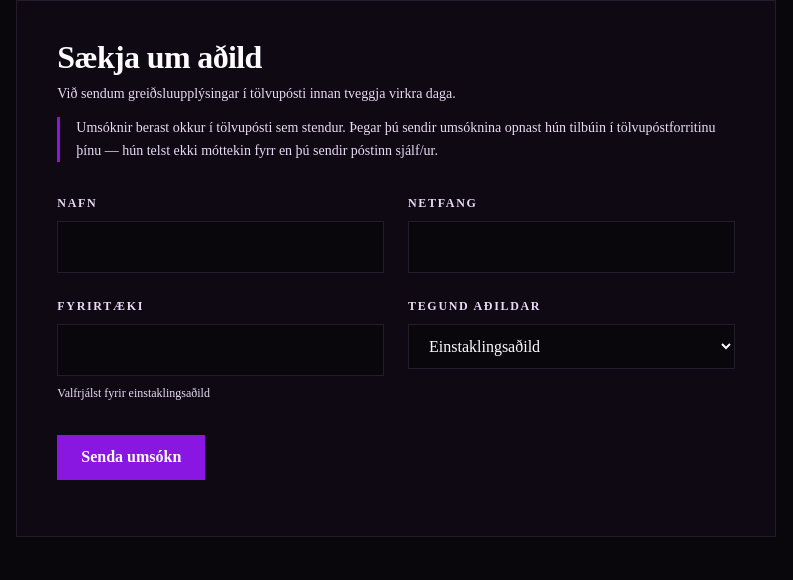
Test: MembershipForm (is) › asks for a company name only when the application is a company one
This screenshot has width=793, height=580.
In the field labelled "Nafn": (221, 247) [57,221,384,273], type "Anna"
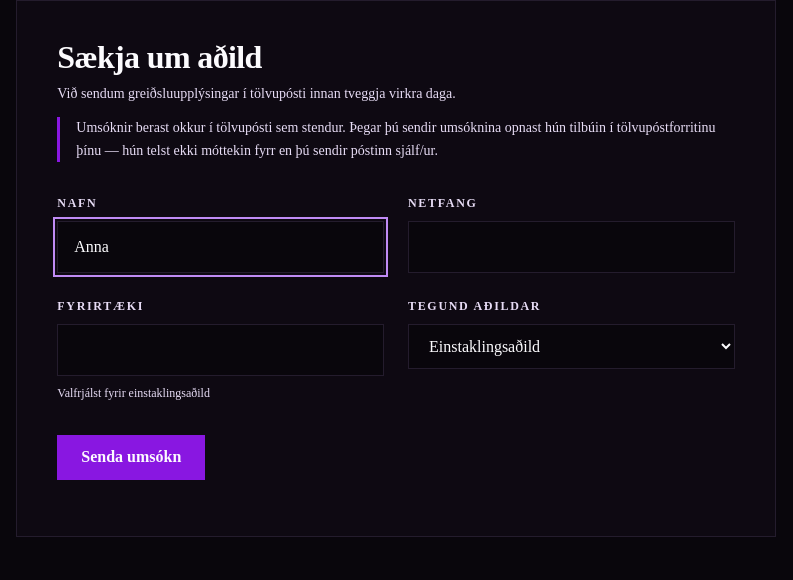
In the field labelled "Netfang": (571, 247) [408,221,735,273], type "anna@example.is"
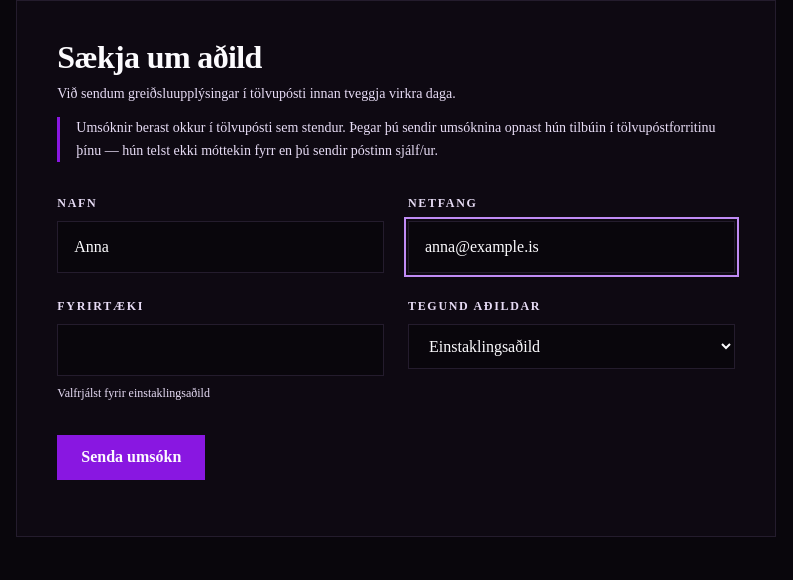
Select "Fyrirtækjaaðild" in the dropdown labelled "Tegund aðildar": (571, 346) [408,324,735,369]
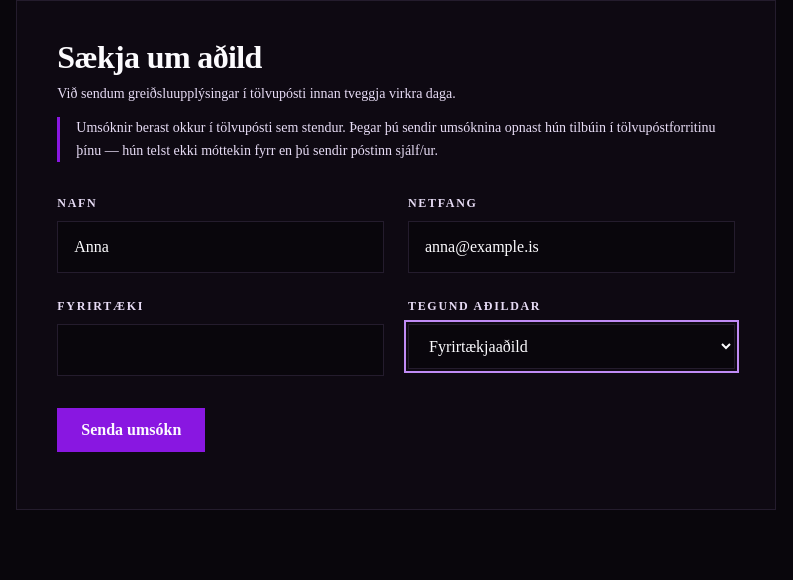
Click the button "Senda umsókn": (131, 430) [57,408,205,452]
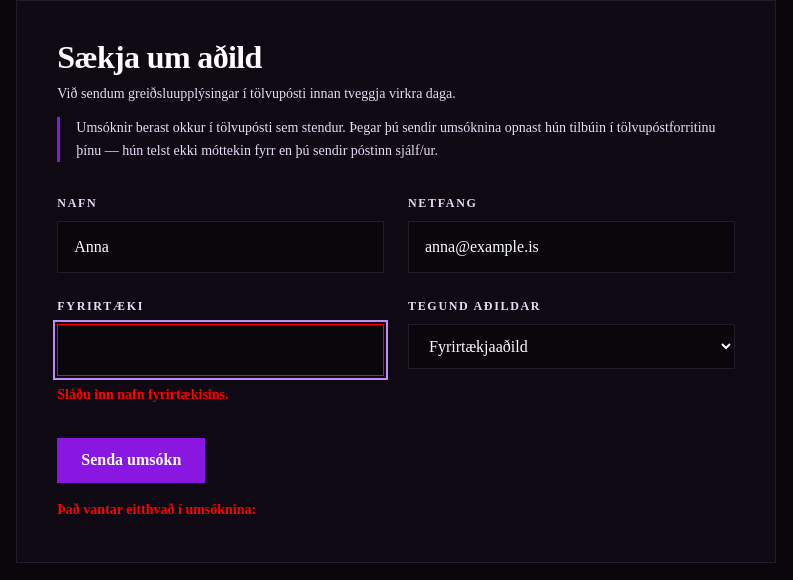
Now the text "Sláðu inn nafn fyrirtækisins." is shown, box [57,387,228,402]
